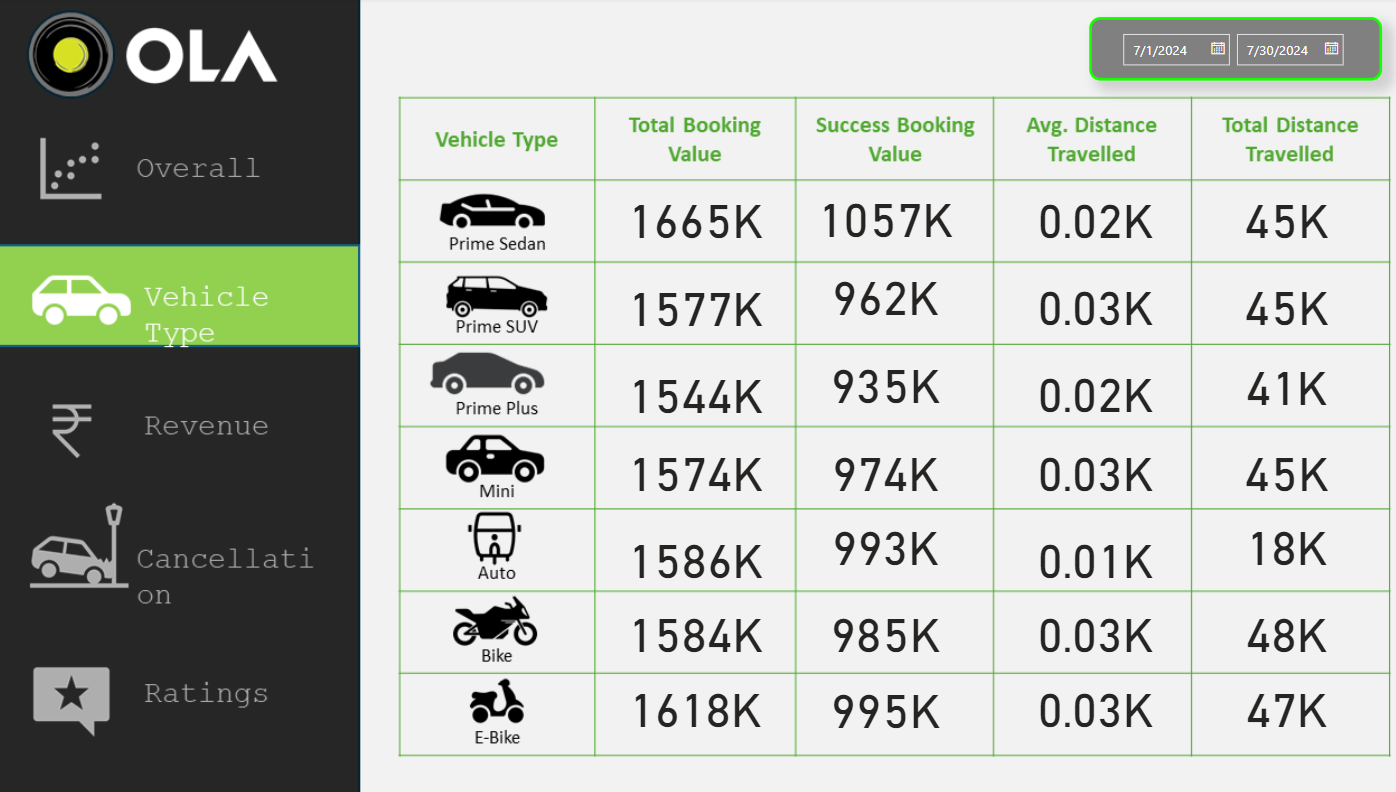

What the dashboard file says about the page in this screenshot:
{"tool":"powerbi","page":{"name":"Vehicle Type","canvas":[1280,720],"ordinal":1},"visuals":[{"type":"card","fields":{"Values":["Sum(Bookings_Cleaned.Booking_Value)"]},"box":[537.9,157.8,170.2,78.2],"z":0},{"type":"card","fields":{"Values":["Sum(Bookings_Cleaned.Booking_Value)"]},"box":[537.9,236,170.2,78.2],"z":1000},{"type":"card","fields":{"Values":["Sum(Bookings_Cleaned.Booking_Value)"]},"box":[537.9,314.2,170.2,78.2],"z":2000},{"type":"card","fields":{"Values":["Sum(Bookings_Cleaned.Booking_Value)"]},"box":[537.9,382.8,170.2,78.2],"z":3000},{"type":"card","fields":{"Values":["Sum(Bookings_Cleaned.Booking_Value)"]},"box":[537.9,461.1,170.2,78.2],"z":4000},{"type":"card","fields":{"Values":["Sum(Bookings_Cleaned.Booking_Value)"]},"box":[537.9,526.9,170.2,78.2],"z":5000},{"type":"card","fields":{"Values":["Sum(Bookings_Cleaned.Booking_Value)"]},"box":[537.9,594.2,170.2,78.2],"z":6000},{"type":"card","fields":{"Values":["Sum(Bookings_Cleaned.Booking_Value)"]},"box":[708.1,156.4,170.2,78.2],"z":7000},{"type":"card","fields":{"Values":["Sum(Bookings_Cleaned.Booking_Value)"]},"box":[708.1,225,170.2,78.2],"z":8000},{"type":"card","fields":{"Values":["Sum(Bookings_Cleaned.Booking_Value)"]},"box":[708.1,304.6,170.2,78.2],"z":9000},{"type":"card","fields":{"Values":["Sum(Bookings_Cleaned.Booking_Value)"]},"box":[708.1,382.8,170.2,78.2],"z":10000},{"type":"card","fields":{"Values":["Sum(Bookings_Cleaned.Booking_Value)"]},"box":[708.1,448.7,170.2,78.2],"z":11000},{"type":"card","fields":{"Values":["Sum(Bookings_Cleaned.Booking_Value)"]},"box":[708.1,526.9,170.2,78.2],"z":12000},{"type":"card","fields":{"Values":["Sum(Bookings_Cleaned.Booking_Value)"]},"box":[708.1,595.5,170.2,78.2],"z":13000},{"type":"card","fields":{"Values":["Avg(Bookings_Cleaned.Ride_Distance)"]},"box":[896.1,157.8,170.2,78.2],"z":14000},{"type":"card","fields":{"Values":["Avg(Bookings_Cleaned.Ride_Distance)"]},"box":[896.1,234.6,170.2,78.2],"z":15000},{"type":"card","fields":{"Values":["Avg(Bookings_Cleaned.Ride_Distance)"]},"box":[896.1,312.9,170.2,78.2],"z":16000},{"type":"card","fields":{"Values":["Avg(Bookings_Cleaned.Ride_Distance)"]},"box":[896.1,382.8,170.2,78.2],"z":17000},{"type":"card","fields":{"Values":["Avg(Bookings_Cleaned.Ride_Distance)"]},"box":[896.1,461.1,170.2,78.2],"z":18000},{"type":"card","fields":{"Values":["Avg(Bookings_Cleaned.Ride_Distance)"]},"box":[896.1,526.9,170.2,78.2],"z":19000},{"type":"card","fields":{"Values":["Avg(Bookings_Cleaned.Ride_Distance)"]},"box":[896.1,594.2,170.2,78.2],"z":20000},{"type":"card","fields":{"Values":["Sum(Bookings_Cleaned.Ride_Distance)"]},"box":[1066.2,157.8,170.2,78.2],"z":21000},{"type":"card","fields":{"Values":["Sum(Bookings_Cleaned.Ride_Distance)"]},"box":[1066.2,234.6,170.2,78.2],"z":22000},{"type":"card","fields":{"Values":["Sum(Bookings_Cleaned.Ride_Distance)"]},"box":[1066.2,306,170.2,78.2],"z":23000},{"type":"card","fields":{"Values":["Sum(Bookings_Cleaned.Ride_Distance)"]},"box":[1066.2,382.8,170.2,78.2],"z":24000},{"type":"card","fields":{"Values":["Sum(Bookings_Cleaned.Ride_Distance)"]},"box":[1066.2,448.7,170.2,78.2],"z":25000},{"type":"card","fields":{"Values":["Sum(Bookings_Cleaned.Ride_Distance)"]},"box":[1066.2,526.9,170.2,78.2],"z":26000},{"type":"card","fields":{"Values":["Sum(Bookings_Cleaned.Ride_Distance)"]},"box":[1066.2,594.2,170.2,78.2],"z":27000},{"type":"slicer","title":"Date","fields":{"Values":["Bookings_Cleaned.Date"]},"box":[974.4,17.4,261.6,57],"z":28000}]}

Visuals, with their boxes on the page's 1280x720 design canvas (x1, y1, x2, y2). These are canvas units, not pixel positions in the 1396x792 screenshot, which may show the page scaled, cropped or inside an application window:
card - Sum(Bookings_Cleaned.Booking_Value): 538/158/708/236
card - Sum(Bookings_Cleaned.Booking_Value): 538/236/708/314
card - Sum(Bookings_Cleaned.Booking_Value): 538/314/708/392
card - Sum(Bookings_Cleaned.Booking_Value): 538/383/708/461
card - Sum(Bookings_Cleaned.Booking_Value): 538/461/708/539
card - Sum(Bookings_Cleaned.Booking_Value): 538/527/708/605
card - Sum(Bookings_Cleaned.Booking_Value): 538/594/708/672
card - Sum(Bookings_Cleaned.Booking_Value): 708/156/878/235
card - Sum(Bookings_Cleaned.Booking_Value): 708/225/878/303
card - Sum(Bookings_Cleaned.Booking_Value): 708/305/878/383
card - Sum(Bookings_Cleaned.Booking_Value): 708/383/878/461
card - Sum(Bookings_Cleaned.Booking_Value): 708/449/878/527
card - Sum(Bookings_Cleaned.Booking_Value): 708/527/878/605
card - Sum(Bookings_Cleaned.Booking_Value): 708/596/878/674
card - Avg(Bookings_Cleaned.Ride_Distance): 896/158/1066/236
card - Avg(Bookings_Cleaned.Ride_Distance): 896/235/1066/313
card - Avg(Bookings_Cleaned.Ride_Distance): 896/313/1066/391
card - Avg(Bookings_Cleaned.Ride_Distance): 896/383/1066/461
card - Avg(Bookings_Cleaned.Ride_Distance): 896/461/1066/539
card - Avg(Bookings_Cleaned.Ride_Distance): 896/527/1066/605
card - Avg(Bookings_Cleaned.Ride_Distance): 896/594/1066/672
card - Sum(Bookings_Cleaned.Ride_Distance): 1066/158/1236/236
card - Sum(Bookings_Cleaned.Ride_Distance): 1066/235/1236/313
card - Sum(Bookings_Cleaned.Ride_Distance): 1066/306/1236/384
card - Sum(Bookings_Cleaned.Ride_Distance): 1066/383/1236/461
card - Sum(Bookings_Cleaned.Ride_Distance): 1066/449/1236/527
card - Sum(Bookings_Cleaned.Ride_Distance): 1066/527/1236/605
card - Sum(Bookings_Cleaned.Ride_Distance): 1066/594/1236/672
"Date" slicer: 974/17/1236/74
